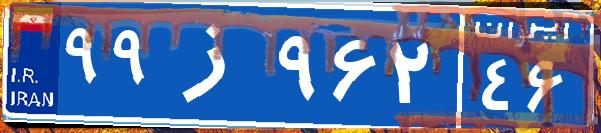2: (385, 28, 445, 110)
4: (475, 38, 525, 113)
6: (330, 28, 385, 110), (525, 38, 570, 115)
9: (273, 28, 330, 110), (57, 26, 110, 107), (110, 28, 158, 105)
ز: (158, 15, 273, 115)
